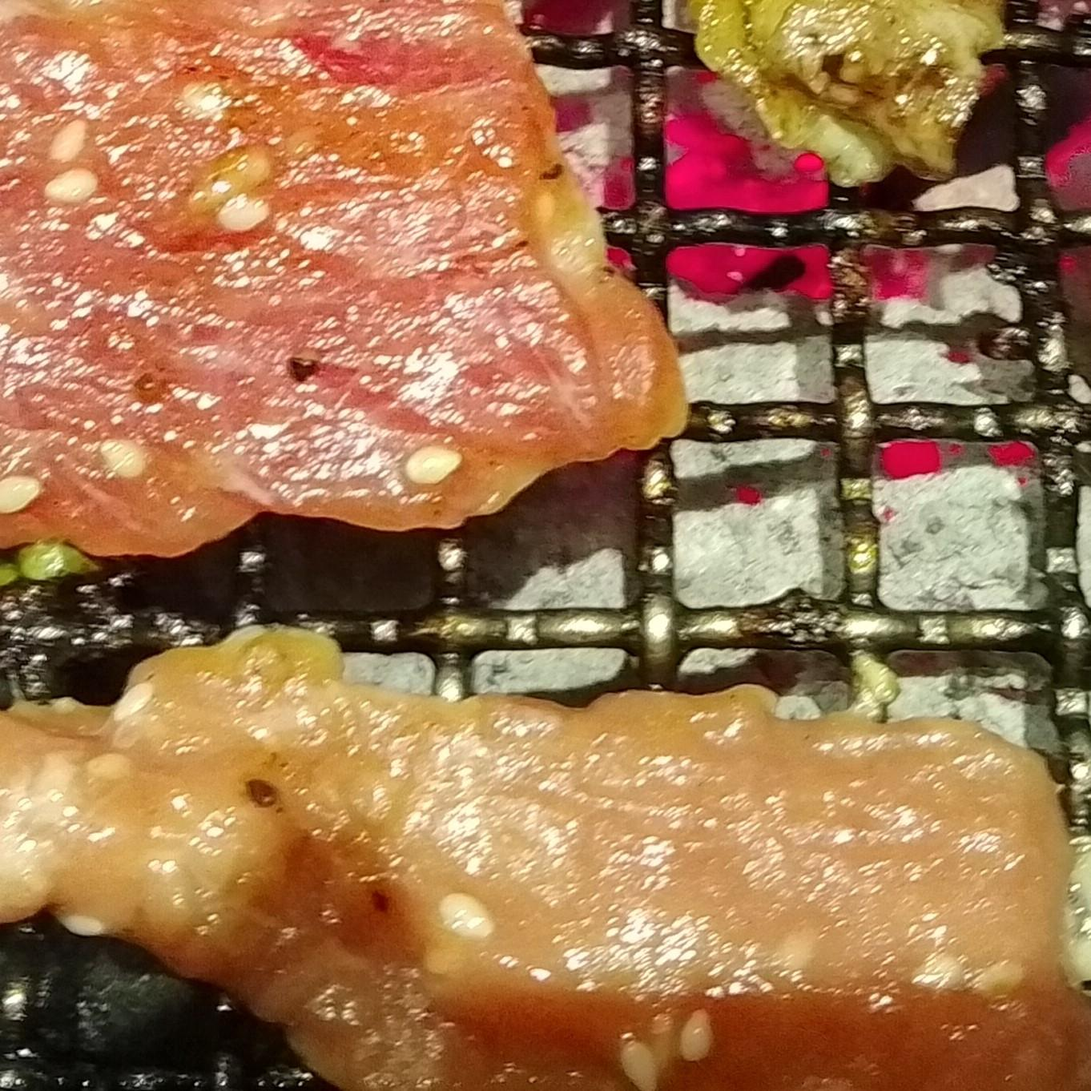Undercooked: (0, 630, 1090, 1090), (0, 0, 691, 564)
Well-Cooked: (689, 0, 1008, 185)
